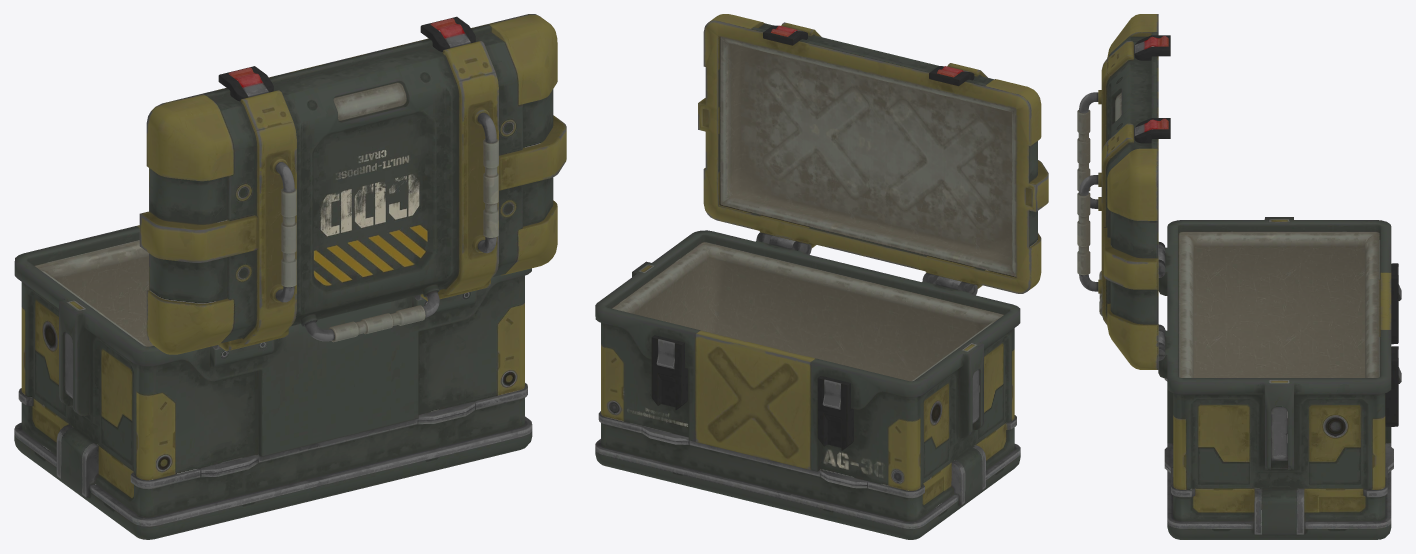
File: missile_crate.glb
3 views of the same model, side by side, from view 1: azimuth 30°, elevation 25°; view 2: azimuth 150°, elevation 25°; view 3: azimuth 270°, elevation 25° (orthographic). The views are drawn at different scales.
Parts seen in each view (by area): view 1: CrateBase_Low_Body2_0, CrateBase_Low_Body1_0, CrateBase_Low_body4_0, CrateBase_Low_Body3_0; view 2: CrateBase_Low_Body1_0, CrateBase_Low_body4_0, CrateBase_Low_Body3_0, CrateBase_Low_Body2_0; view 3: CrateBase_Low_Body1_0, CrateBase_Low_body4_0, CrateBase_Low_Body2_0, CrateBase_Low_Body3_0.
Boxes of the visible parts, x1,y1,x2,y2 form: CrateBase_Low_Body2_0: (14,14,566,539); CrateBase_Low_Body1_0: (41,16,553,539); CrateBase_Low_body4_0: (14,29,524,517); CrateBase_Low_Body3_0: (15,27,531,497); CrateBase_Low_Body1_0: (599,21,1041,520); CrateBase_Low_body4_0: (595,29,1037,521); CrateBase_Low_Body3_0: (595,22,1048,504); CrateBase_Low_Body2_0: (595,14,1041,539); CrateBase_Low_Body1_0: (1098,35,1393,538); CrateBase_Low_body4_0: (1077,45,1401,521); CrateBase_Low_Body2_0: (1103,14,1391,539); CrateBase_Low_Body3_0: (1079,32,1398,534).
Size of the model in its own units: 1.04 by 1.1 by 0.8468.
4 materials, 4 textured.
